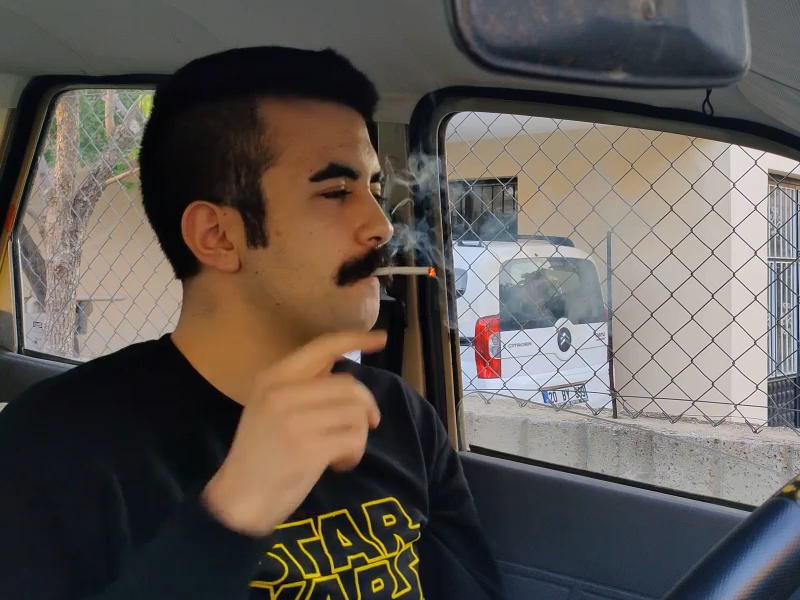sigara: (367, 264, 438, 279)
